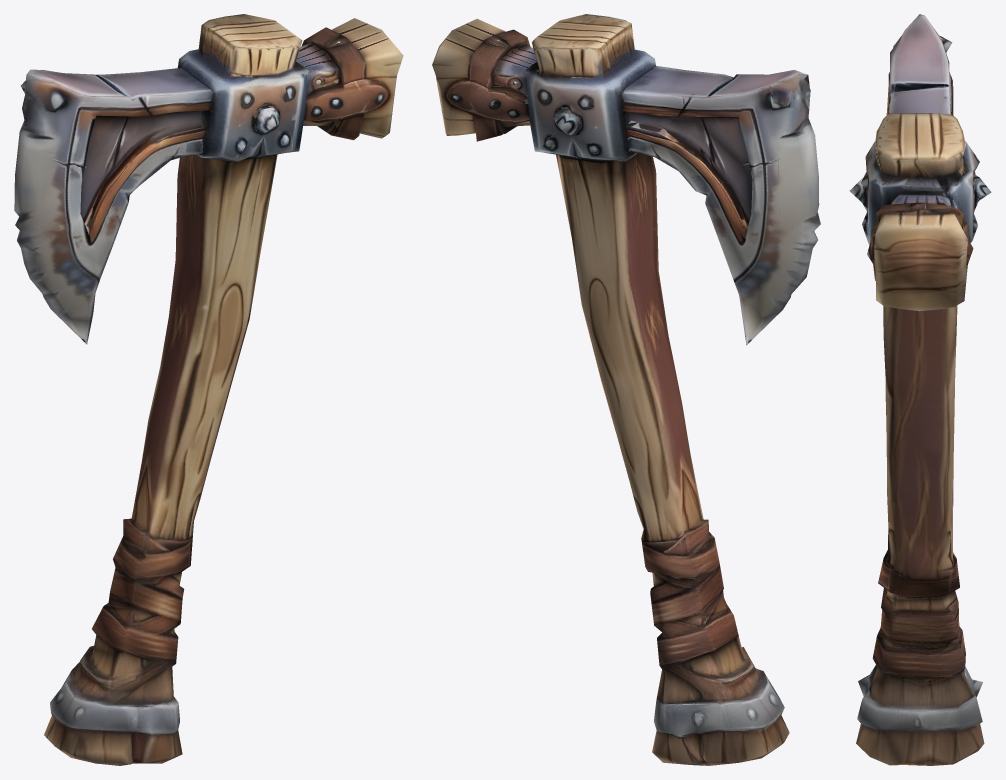
File: axe1.glb
The picture shows the model from 3 angles, left to right: view 1: azimuth 30°, elevation 25°; view 2: azimuth 150°, elevation 25°; view 3: azimuth 270°, elevation 25°; orthographic projection.
Size of the model in its own units: 1.1 by 2 by 0.3734.
Materials: 1 (1 with a texture image).
